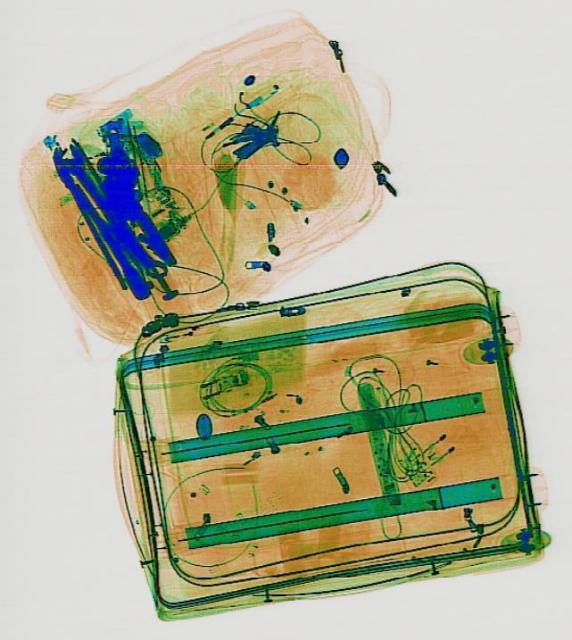Wrench: (48, 138, 171, 284)
